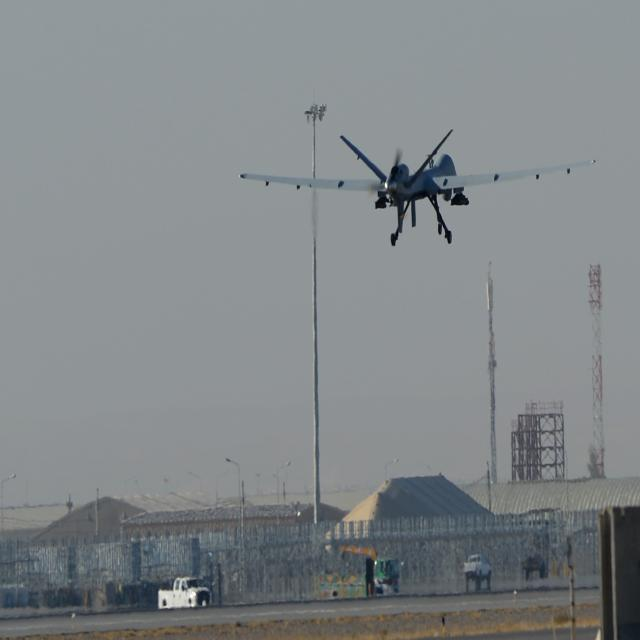MIL_Plane: (238, 130, 597, 246)
